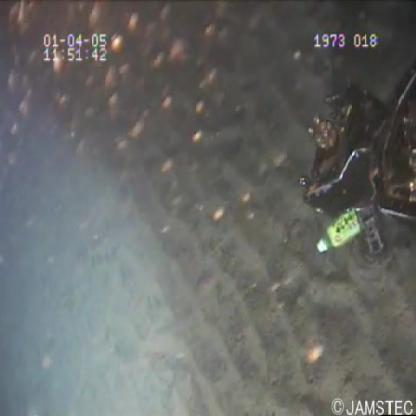Rov: (297, 57, 416, 252)
Rác: (315, 202, 363, 260)
